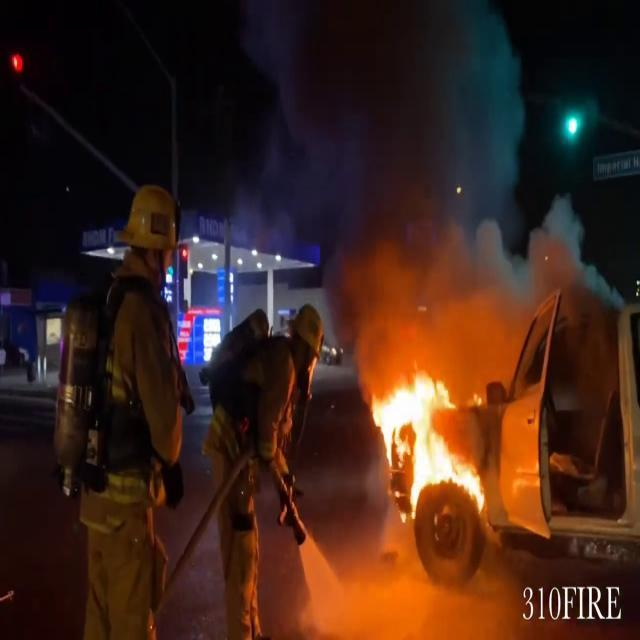Fire: (370, 356, 488, 516)
Smoke: (243, 1, 534, 357)
